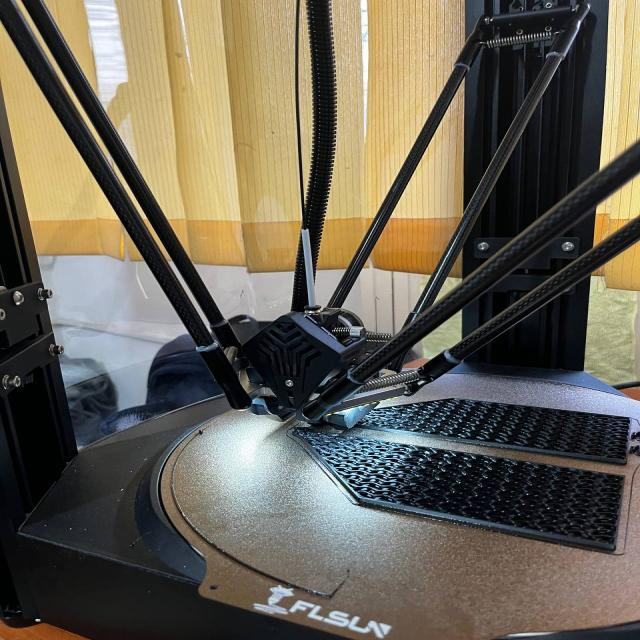Without deffect: (252, 353, 640, 567)
